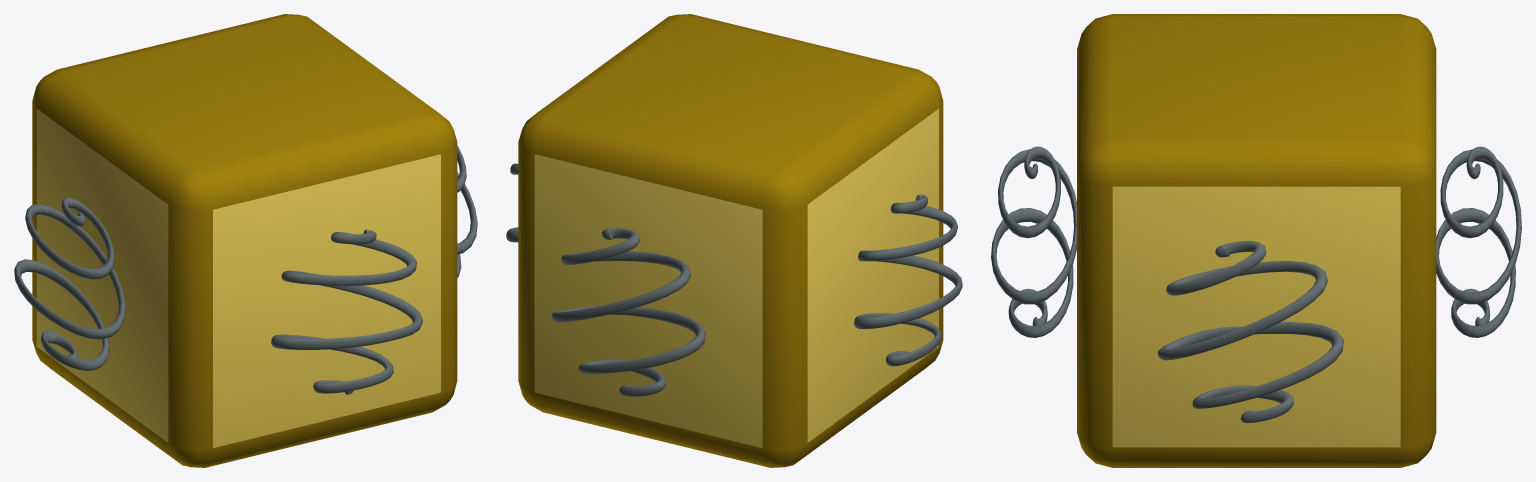
Rendered from 2yuksekziplama.fbx.
3 renders of one model, left to right at view 1: azimuth 30°, elevation 25°; view 2: azimuth 150°, elevation 25°; view 3: azimuth 270°, elevation 25°, orthographic. The views are drawn at different scales.
Parts seen in each view (by area): view 1: Cube.001, Spiral.001, Spiral, Spiral.003; view 2: Cube.001, Spiral.002, Spiral.001; view 3: Cube.001, Spiral.003, Spiral.002, Spiral.
Part boxes in pixels (left/top/right/bottom): Cube.001: left=32, top=14, right=457, bottom=467; Spiral.001: left=14, top=197, right=125, bottom=370; Spiral: left=271, top=229, right=422, bottom=394; Spiral.003: left=457, top=145, right=477, bottom=277; Cube.001: left=518, top=14, right=943, bottom=467; Spiral.002: left=551, top=228, right=705, bottom=396; Spiral.001: left=854, top=194, right=962, bottom=366; Cube.001: left=1077, top=14, right=1436, bottom=467; Spiral.003: left=1157, top=241, right=1343, bottom=423; Spiral.002: left=1436, top=146, right=1521, bottom=337; Spiral: left=991, top=146, right=1076, bottom=337.
Bounding box in the file's own units: 295 × 200 × 295.
